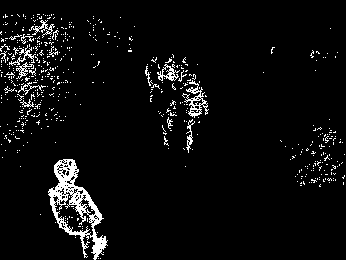person: (53, 154, 108, 260)
